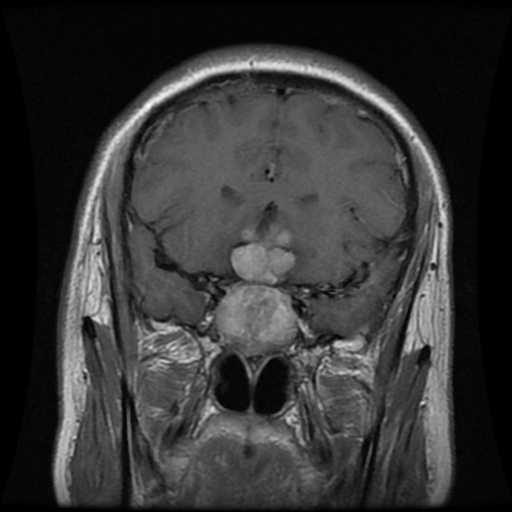pituitary: (215, 225, 297, 352)
